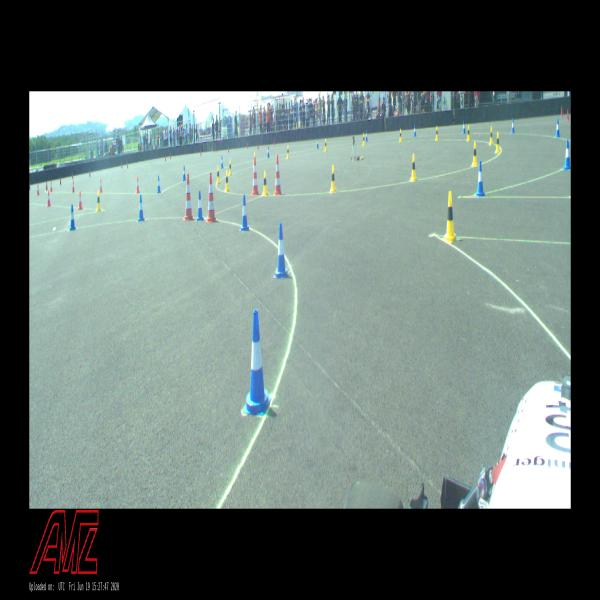blue_cone: (243, 309, 271, 416), (273, 223, 290, 279), (240, 194, 250, 231), (476, 161, 485, 197), (563, 140, 571, 170), (197, 190, 204, 221), (138, 195, 145, 222), (70, 204, 76, 231), (555, 118, 560, 138), (157, 175, 161, 194), (511, 118, 515, 133), (182, 166, 186, 180), (413, 124, 417, 138), (462, 121, 466, 134), (220, 156, 224, 169), (267, 145, 270, 158), (365, 130, 368, 142), (316, 138, 319, 148)
large_orange_cone: (206, 172, 218, 223), (183, 174, 195, 221), (273, 155, 283, 195), (251, 157, 260, 195)
orange_cone: (46, 190, 52, 207), (78, 190, 83, 210), (136, 177, 140, 193), (99, 179, 103, 192), (36, 183, 40, 196), (72, 180, 75, 192), (50, 181, 53, 192)
unknown_cone: (566, 109, 568, 121), (561, 106, 563, 117), (29, 181, 31, 190), (46, 182, 48, 190)
yellow_cone: (443, 191, 457, 245), (330, 165, 336, 193), (410, 153, 416, 180), (472, 141, 478, 166), (224, 170, 230, 193), (96, 190, 102, 212), (263, 170, 268, 195), (495, 132, 500, 153), (216, 166, 221, 184), (490, 126, 494, 145), (228, 159, 232, 176), (286, 145, 290, 158), (467, 125, 470, 142), (435, 125, 438, 141), (399, 128, 402, 143), (362, 133, 365, 147), (324, 138, 327, 152)
